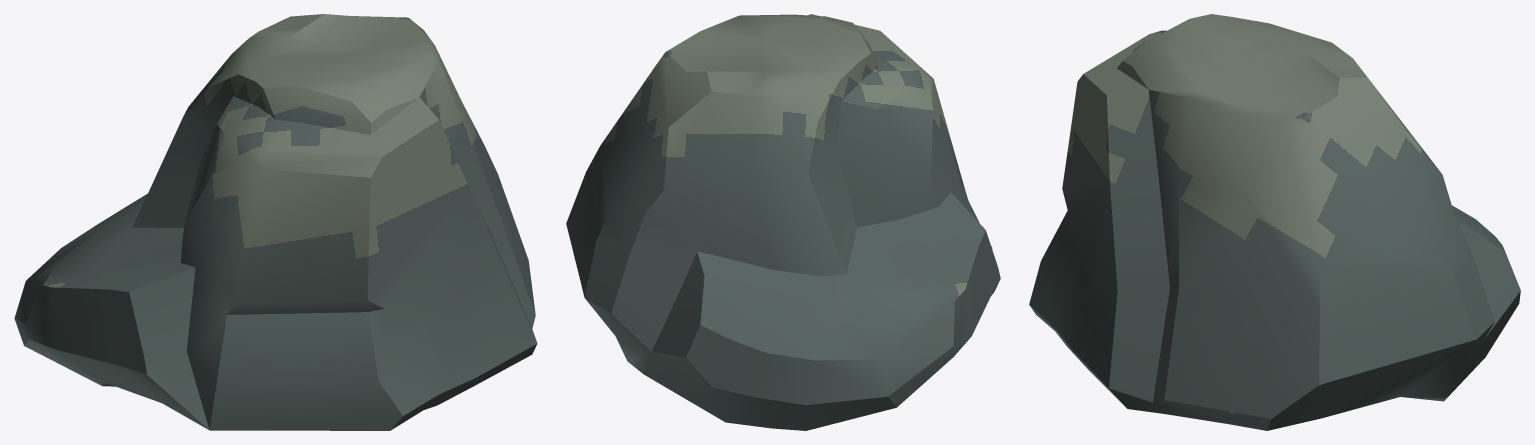
Rendered from rock-rounded-shoulder.glb.
3 views of the same model, side by side, from view 1: azimuth 30°, elevation 25°; view 2: azimuth 150°, elevation 25°; view 3: azimuth 270°, elevation 25° (orthographic). The views are drawn at different scales.
Visible parts, largest first — view 1: rock-rounded-shoulder runtime mesh; view 2: rock-rounded-shoulder runtime mesh; view 3: rock-rounded-shoulder runtime mesh.
Part boxes in pixels (<box>): rock-rounded-shoulder runtime mesh: <box>14,14,537,430</box>; rock-rounded-shoulder runtime mesh: <box>566,14,1000,430</box>; rock-rounded-shoulder runtime mesh: <box>1029,14,1520,430</box>.
Size of the model in its own units: 1.14 by 0.8 by 1.06.
1 material, 1 textured.
